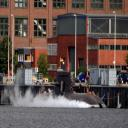submarine: (19, 72, 107, 110)
